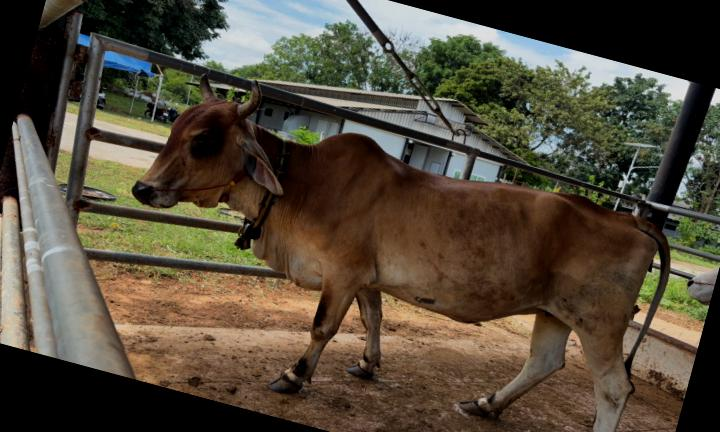Brahman: (131, 74, 669, 432)
